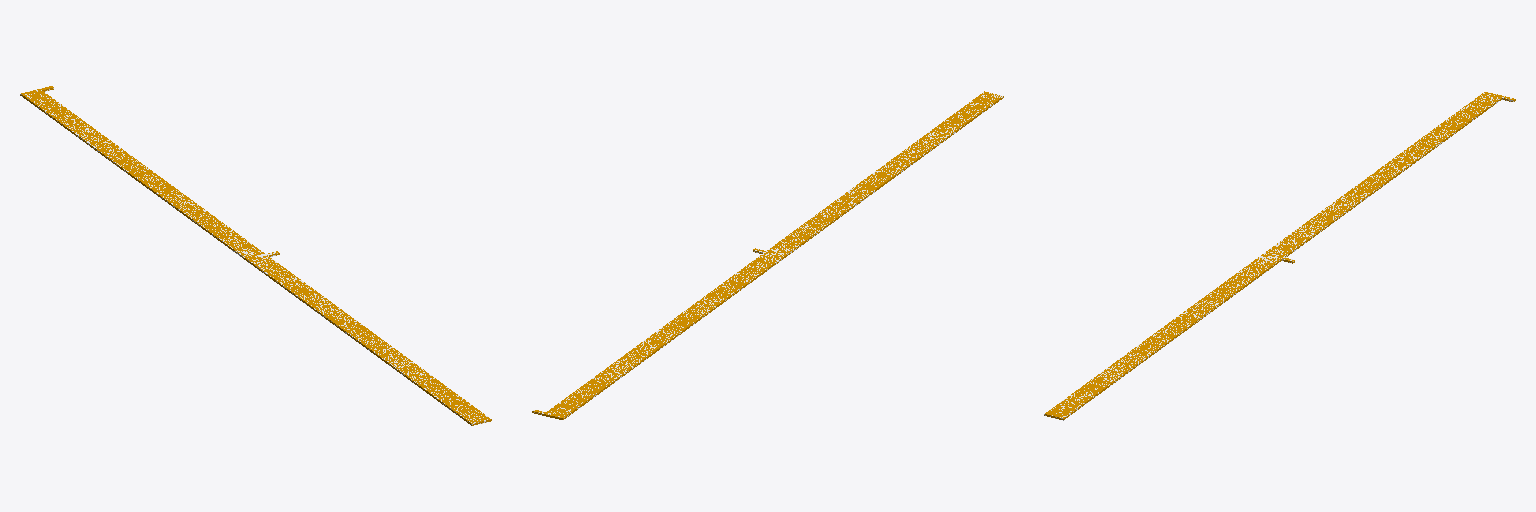
robot.urdf — my_object:
<?xml version="1.0" ?> 
<robot name="my_object" static="true">
  <link name="base_link">
  <inertial>
    <mass value="1.0" />
    <origin xyz="0 0 0.0" />
    <inertia ixx="1.0" ixy="0.0" ixz="0.0" iyy="1.0" iyz="0.0" izz="1.0"/>
  </inertial>
  <visual>
   <origin xyz="0 0 0.0" rpy="0 0 0" />
   <geometry>
     <mesh filename="package://cob_gazebo_objects/Media/models/meter_stick_2m.dae"/>
   </geometry>
  </visual>
  <collision>
   <origin xyz="0 0 0" rpy="0 0 0" />
   <geometry>
     <mesh filename="package://cob_gazebo_objects/Media/models/meter_stick_2m.dae"/>
   </geometry>
  </collision>     
  </link>

</robot>

--- Facts derived from the render (not from the file) ---
3 views of the same robot in one strip: view 1: azimuth 30°, elevation 25°; view 2: azimuth 150°, elevation 25°; view 3: azimuth 330°, elevation 25° (orthographic).
Robot: my_object — 1 links, 0 joints (none); root link base_link; default pose: every joint at zero.
Links seen in each view (by area): view 1: base_link; view 2: base_link; view 3: base_link.
Boxes of the visible links, box(x1,y1,x2,y2) form: base_link: box(20, 86, 491, 425); base_link: box(532, 91, 1003, 419); base_link: box(1044, 92, 1515, 420).
Size in the robot's own frame: 0.002 by 0.0508 by 0.0001 metres.
Meshes: 1 distinct files referenced, 1 mesh visuals loaded (1 Collada DAE).
